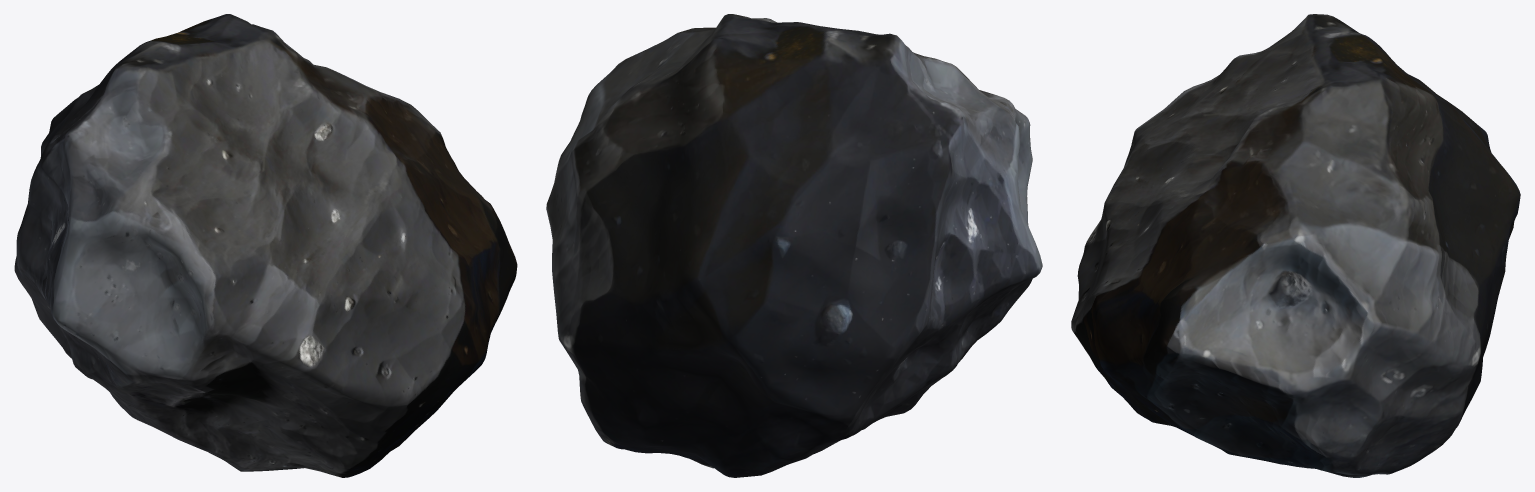
File: asteroid2.glb
3 views of the same model, side by side, from view 1: azimuth 30°, elevation 25°; view 2: azimuth 150°, elevation 25°; view 3: azimuth 270°, elevation 25° (orthographic). The views are drawn at different scales.
Size of the model in its own units: 1.95 by 1.87 by 2.
1 material, 1 textured.
